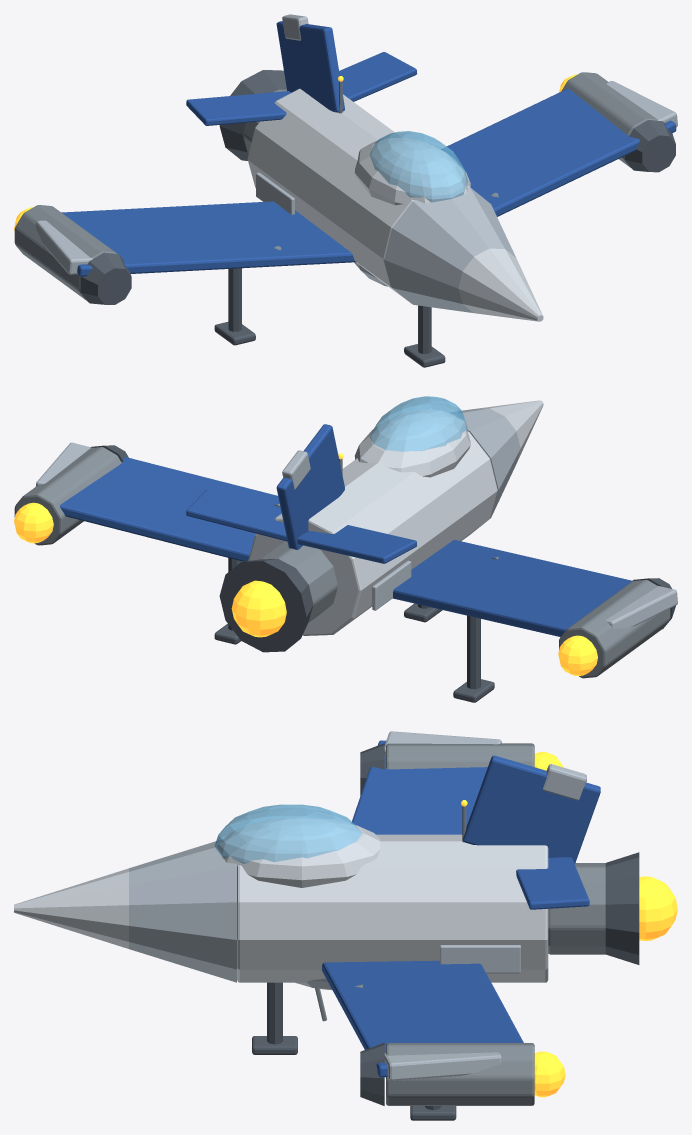
File: ship.glb
3 renders of one model, top to bottom at view 1: azimuth 30°, elevation 25°; view 2: azimuth 150°, elevation 25°; view 3: azimuth 270°, elevation 25°, orthographic. The views are drawn at different scales.
Parts seen in each view (by area): view 1: Hull, WingR, WingL, NoseCone, CanopyBase, Canopy, NoseTip, TailFin, PodR, StabR, PodL, StabL (+8 smaller); view 2: Hull, WingR, WingL, CanopyBase, MainNozzle, TailFin, Canopy, PodR, PodL, StabL, NoseCone, StabR (+11 smaller); view 3: Hull, WingL, NoseCone, TailFin, CanopyBase, WingR, PodL, Canopy, NoseTip, MainEngine, MainNozzle, PodR (+11 smaller).
Part boxes in pixels (bbox=[...]): Hull: bbox=[247, 88, 469, 301]; WingR: bbox=[61, 201, 356, 276]; WingL: bbox=[441, 88, 676, 216]; NoseCone: bbox=[384, 187, 516, 312]; CanopyBase: bbox=[354, 137, 470, 205]; Canopy: bbox=[369, 131, 467, 202]; NoseTip: bbox=[458, 248, 543, 321]; TailFin: bbox=[276, 21, 344, 112]; PodR: bbox=[14, 205, 117, 301]; StabR: bbox=[186, 91, 290, 125]; PodL: bbox=[561, 72, 657, 168]; StabL: bbox=[339, 52, 417, 101]; Hull: bbox=[248, 431, 497, 635]; WingR: bbox=[393, 539, 632, 636]; WingL: bbox=[60, 457, 280, 561]; CanopyBase: bbox=[354, 409, 470, 477]; MainNozzle: bbox=[219, 558, 313, 652]; TailFin: bbox=[276, 424, 344, 549]; Canopy: bbox=[370, 396, 467, 451]; PodR: bbox=[559, 580, 670, 678]; PodL: bbox=[14, 447, 121, 545]; StabL: bbox=[186, 489, 287, 541]; NoseCone: bbox=[451, 408, 520, 522]; StabR: bbox=[297, 525, 416, 563]; Hull: bbox=[237, 834, 548, 982]; WingL: bbox=[322, 960, 523, 1077]; NoseCone: bbox=[129, 839, 236, 982]; TailFin: bbox=[463, 755, 600, 864]; CanopyBase: bbox=[217, 817, 380, 887]; WingR: bbox=[351, 740, 487, 834]; PodL: bbox=[386, 1043, 534, 1105]; Canopy: bbox=[214, 804, 362, 863]; NoseTip: bbox=[14, 868, 128, 948]; MainEngine: bbox=[548, 863, 605, 954]; MainNozzle: bbox=[605, 852, 639, 964]; PodR: bbox=[386, 743, 534, 769].
Size of the model in its own units: 5.87 by 2.39 by 4.91.
